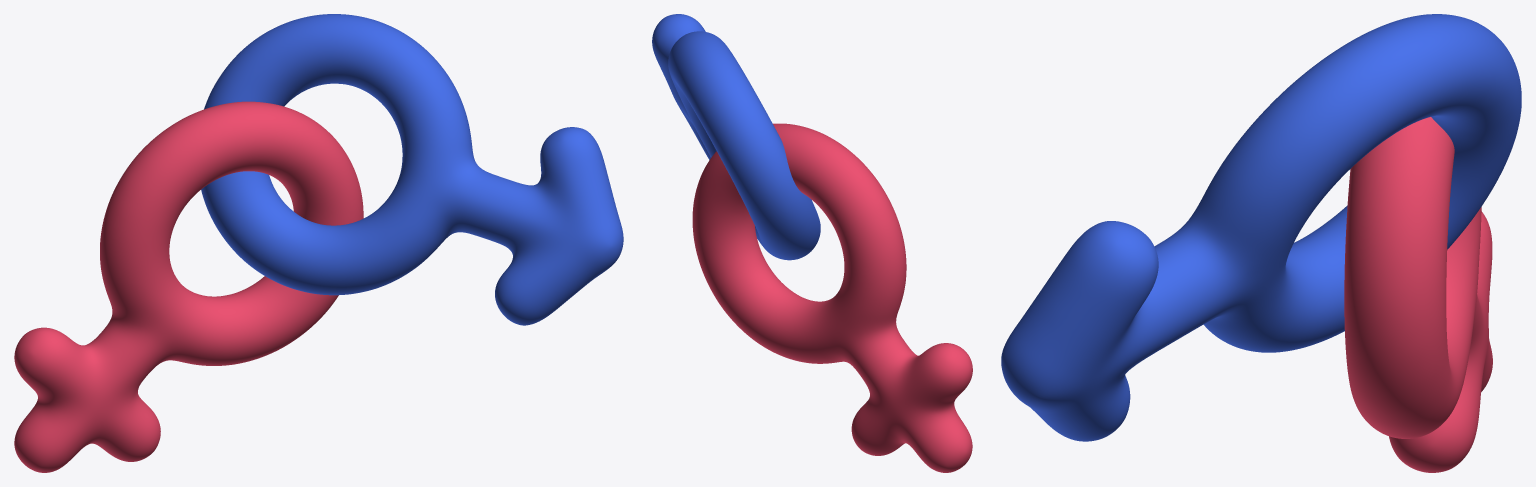
The model's file is gender-3d-animated-icon-804006589759.glb.
The picture shows the model from 3 angles, left to right: view 1: azimuth 30°, elevation 25°; view 2: azimuth 150°, elevation 25°; view 3: azimuth 270°, elevation 25°; orthographic projection. The views are drawn at different scales.
Parts seen in each view (by area): view 1: male, female; view 2: female, male; view 3: male, female.
Part boxes in pixels (x1,y1,x2,y2): male: (201, 14, 623, 325); female: (14, 101, 363, 472); female: (692, 123, 972, 472); male: (652, 14, 820, 260); male: (1001, 14, 1521, 441); female: (1344, 117, 1492, 472).
Bounding box in the file's own units: 2.54 × 2.09 × 1.68.
